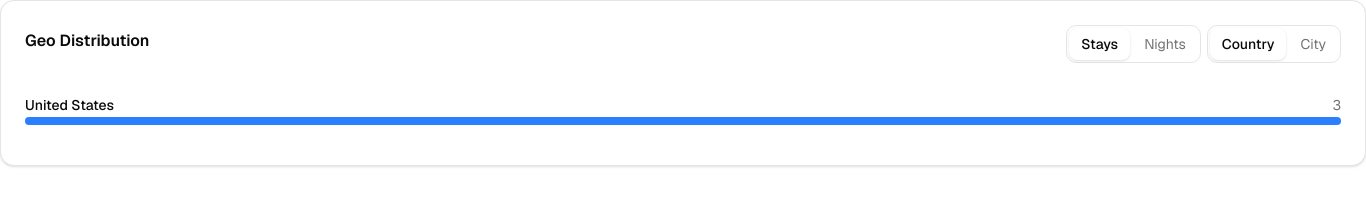
Test: GeoDistribution › groups bookings by city with country code suffix when City toggle is selected
Click the button "City" at (1313, 44), box [1288,28,1338,60]
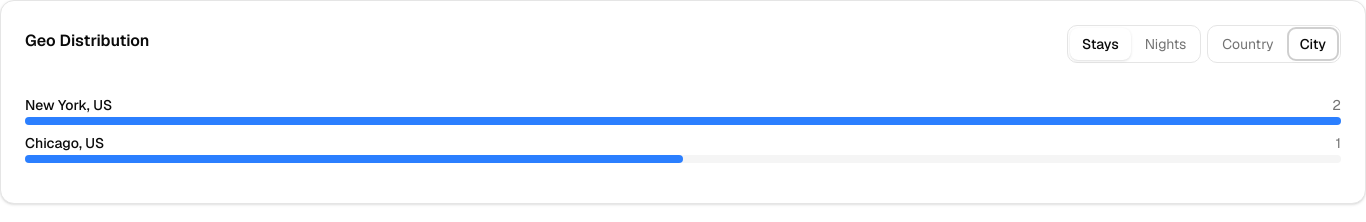
Expected: the element with test id "geo-row-New York, US" shows "2", [1332,96,1341,114]
Expected: the element with test id "geo-row-Chicago, US" shows "1", [1336,134,1341,152]
